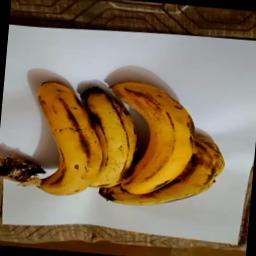Banana Unripe: (0, 65, 237, 221)
